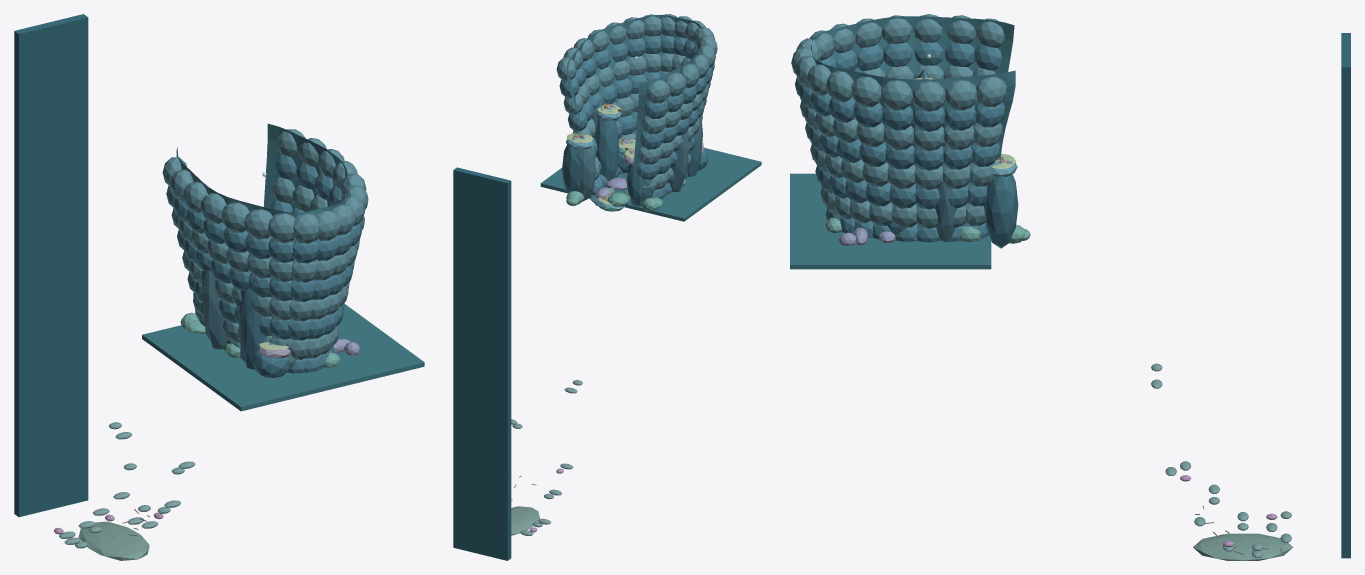
The model's file is basin.glb.
3 views of the same model, side by side, from view 1: azimuth 30°, elevation 25°; view 2: azimuth 150°, elevation 25°; view 3: azimuth 270°, elevation 25° (orthographic). The views are drawn at different scales.
Parts seen in each view (by area): view 1: basin; view 2: basin; view 3: basin.
Boxes of the visible parts, x1,y1,x2,y2 form: basin: (14, 14, 424, 560); basin: (453, 14, 761, 560); basin: (790, 14, 1350, 560).
Size of the model in its own units: 90 by 232 by 234.
